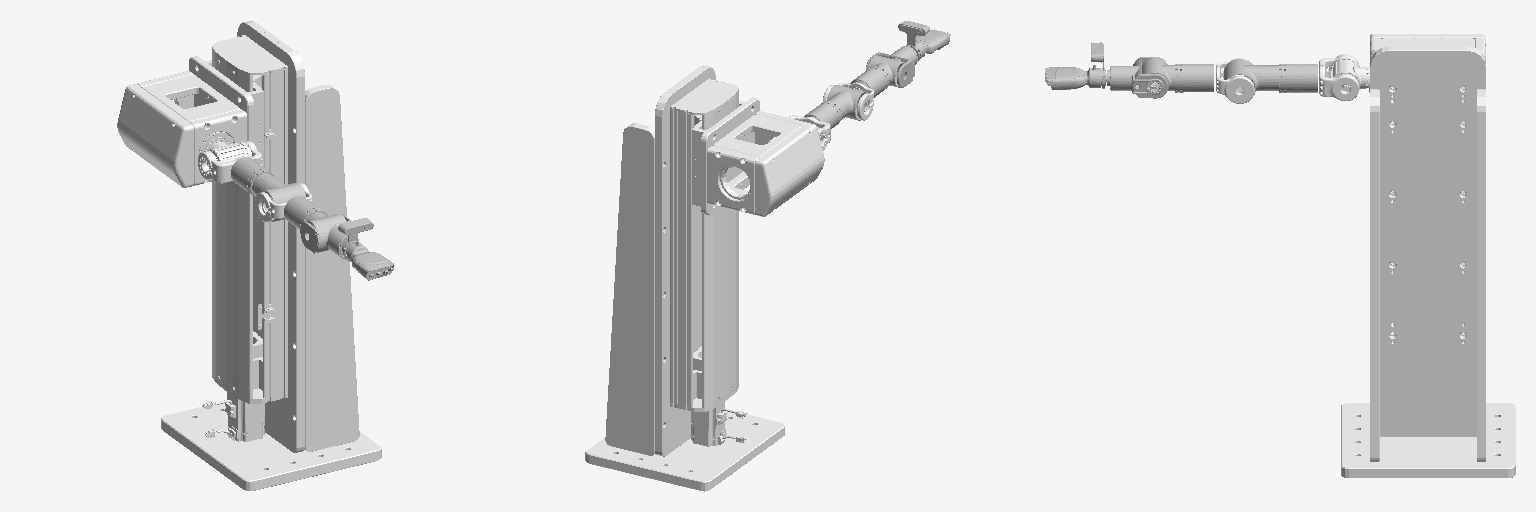
The robot description file, URDF, robot "RH_JEARM":
<?xml version="1.0" encoding="utf-8"?>
<!-- This URDF was automatically created by SolidWorks to URDF Exporter! Originally created by [author] ([email redacted]) 
     Commit Version: 1.6.0-4-g7f85cfe  Build Version: 1.6.7995.38578
     For more information, please see http://wiki.ros.org/sw_urdf_exporter -->
<robot
  name="RH_JEARM">
  <link
    name="base_link">
    <inertial>
      <origin
        xyz="0.1739 -0.00061208 0.49707"
        rpy="0 0 0" />
      <mass
        value="34.216" />
      <inertia
        ixx="3.8398"
        ixy="-7.0807E-05"
        ixz="0.029534"
        iyy="3.6685"
        iyz="0.0001037"
        izz="0.54165" />
    </inertial>
    <visual>
      <origin
        xyz="0 0 0"
        rpy="0 0 0" />
      <geometry>
        <mesh
          filename="base_link.STL" />
      </geometry>
      <material
        name="">
        <color
          rgba="1 1 1 1" />
      </material>
    </visual>
    <collision>
      <origin
        xyz="0 0 0"
        rpy="0 0 0" />
      <geometry>
        <mesh
          filename="base_link.STL" />
      </geometry>
    </collision>
  </link>
  <link
    name="Link1">
    <inertial>
      <origin
        xyz="2.7836118221769E-05 0.00322228656765244 -0.00617631002529817"
        rpy="0 0 0" />
      <mass
        value="0.159032417486965" />
      <inertia
        ixx="0.000247408483778664"
        ixy="1.71028711137996E-07"
        ixz="-5.12014662454739E-08"
        iyy="0.000182068327972374"
        iyz="2.59581548187686E-06"
        izz="0.000216756026876946" />
    </inertial>
    <visual>
      <origin
        xyz="0 0 0"
        rpy="0 0 0" />
      <geometry>
        <mesh
          filename="Link1.STL" />
      </geometry>
      <material
        name="">
        <color
          rgba="1 1 1 1" />
      </material>
    </visual>
    <collision>
      <origin
        xyz="0 0 0"
        rpy="0 0 0" />
      <geometry>
        <mesh
          filename="Link1.STL" />
      </geometry>
    </collision>
  </link>
  <joint
    name="joint1"
    type="revolute">
    <origin
      xyz="-0.0445 -0.2126 0.9008"
      rpy="1.5708 -1.5708 0" />
    <parent
      link="base_link" />
    <child
      link="Link1" />
    <axis
      xyz="0 0 1" />
    <limit
      lower="-31.4"
      upper="31.4"
      effort="100"
      velocity="31.4" />
  </joint>
  <link
    name="Link2">
    <inertial>
      <origin
        xyz="1.35382769328452E-07 -0.0256026505580679 0.00229314008429365"
        rpy="0 0 0" />
      <mass
        value="0.243793701990545" />
      <inertia
        ixx="0.000941741092859038"
        ixy="7.92653544247874E-10"
        ixz="2.00466559830877E-09"
        iyy="0.000779324493793612"
        iyz="7.47707501241595E-06"
        izz="0.000323680400868477" />
    </inertial>
    <visual>
      <origin
        xyz="0 0 0"
        rpy="0 0 0" />
      <geometry>
        <mesh
          filename="Link2.STL" />
      </geometry>
      <material
        name="">
        <color
          rgba="1 1 1 1" />
      </material>
    </visual>
    <collision>
      <origin
        xyz="0 0 0"
        rpy="0 0 0" />
      <geometry>
        <mesh
          filename="Link2.STL" />
      </geometry>
    </collision>
  </link>
  <joint
    name="joint2"
    type="revolute">
    <origin
      xyz="0 0 0"
      rpy="-1.5708 0 0" />
    <parent
      link="Link1" />
    <child
      link="Link2" />
    <axis
      xyz="0 0 1" />
    <limit
      lower="-31.4"
      upper="31.4"
      effort="100"
      velocity="31.4" />
  </joint>
  <link
    name="Link3">
    <inertial>
      <origin
        xyz="-0.00133919405917227 0.000273594582136827 -0.0780053635263388"
        rpy="0 0 0" />
      <mass
        value="0.249547645812497" />
      <inertia
        ixx="0.000499719866582774"
        ixy="-1.56499694946692E-07"
        ixz="2.00359608246648E-05"
        iyy="0.000526985959033142"
        iyz="-5.99932620143861E-07"
        izz="0.000281138997829166" />
    </inertial>
    <visual>
      <origin
        xyz="0 0 0"
        rpy="0 0 0" />
      <geometry>
        <mesh
          filename="Link3.STL" />
      </geometry>
      <material
        name="">
        <color
          rgba="0.819607843137255 0.819607843137255 0.819607843137255 1" />
      </material>
    </visual>
    <collision>
      <origin
        xyz="0 0 0"
        rpy="0 0 0" />
      <geometry>
        <mesh
          filename="Link3.STL" />
      </geometry>
    </collision>
  </link>
  <joint
    name="joint3"
    type="revolute">
    <origin
      xyz="0 -0.2719 0"
      rpy="1.5708 0 0" />
    <parent
      link="Link2" />
    <child
      link="Link3" />
    <axis
      xyz="0 0 1" />
    <limit
      lower="-31.4"
      upper="31.4"
      effort="100"
      velocity="31.4" />
  </joint>
  <link
    name="Link4">
    <inertial>
      <origin
        xyz="0.0025297602856591 -0.0159855148230696 -0.00375255478709757"
        rpy="0 0 0" />
      <mass
        value="0.140360397584585" />
      <inertia
        ixx="0.000478099297631363"
        ixy="1.26497163165359E-05"
        ixz="-1.16695285465246E-06"
        iyy="0.000405372160172561"
        iyz="8.4400509245478E-06"
        izz="0.000175373478467327" />
    </inertial>
    <visual>
      <origin
        xyz="0 0 0"
        rpy="0 0 0" />
      <geometry>
        <mesh
          filename="Link4.STL" />
      </geometry>
      <material
        name="">
        <color
          rgba="1 1 1 1" />
      </material>
    </visual>
    <collision>
      <origin
        xyz="0 0 0"
        rpy="0 0 0" />
      <geometry>
        <mesh
          filename="Link4.STL" />
      </geometry>
    </collision>
  </link>
  <joint
    name="joint4"
    type="revolute">
    <origin
      xyz="-0.008 0 0"
      rpy="-1.5708 0 0" />
    <parent
      link="Link3" />
    <child
      link="Link4" />
    <axis
      xyz="0 0 1" />
    <limit
      lower="-31.4"
      upper="31.4"
      effort="100"
      velocity="31.4" />
  </joint>
  <link
    name="Link5">
    <inertial>
      <origin
        xyz="1.27921006676246E-07 -0.00163210833384253 -0.0520239678804558"
        rpy="0 0 0" />
      <mass
        value="0.203459403127019" />
      <inertia
        ixx="0.000283282573696289"
        ixy="-9.13385447223933E-10"
        ixz="1.31064037482601E-09"
        iyy="0.000290785912383692"
        iyz="8.32280669783919E-06"
        izz="0.000231513900748135" />
    </inertial>
    <visual>
      <origin
        xyz="0 0 0"
        rpy="0 0 0" />
      <geometry>
        <mesh
          filename="Link5.STL" />
      </geometry>
      <material
        name="">
        <color
          rgba="0.819607843137255 0.819607843137255 0.819607843137255 1" />
      </material>
    </visual>
    <collision>
      <origin
        xyz="0 0 0"
        rpy="0 0 0" />
      <geometry>
        <mesh
          filename="Link5.STL" />
      </geometry>
    </collision>
  </link>
  <joint
    name="joint5"
    type="revolute">
    <origin
      xyz="0.008 -0.2189 0"
      rpy="1.5708 0 0" />
    <parent
      link="Link4" />
    <child
      link="Link5" />
    <axis
      xyz="0 0 1" />
    <limit
      lower="-31.4"
      upper="31.4"
      effort="100"
      velocity="31.4" />
  </joint>
  <link
    name="Link6">
    <inertial>
      <origin
        xyz="-4.96392518201105E-08 -0.048850970736557 0.00148906609677779"
        rpy="0 0 0" />
      <mass
        value="0.139511938718154" />
      <inertia
        ixx="0.000235435502751697"
        ixy="8.05181312606448E-10"
        ixz="-6.40982004176051E-10"
        iyy="0.000165450668750385"
        iyz="5.52340343814494E-05"
        izz="0.000188382083480458" />
    </inertial>
    <visual>
      <origin
        xyz="0 0 0"
        rpy="0 0 0" />
      <geometry>
        <mesh
          filename="Link6.STL" />
      </geometry>
      <material
        name="">
        <color
          rgba="0.819607843137255 0.819607843137255 0.819607843137255 1" />
      </material>
    </visual>
    <collision>
      <origin
        xyz="0 0 0"
        rpy="0 0 0" />
      <geometry>
        <mesh
          filename="Link6.STL" />
      </geometry>
    </collision>
  </link>
  <joint
    name="joint6"
    type="revolute">
    <origin
      xyz="0 0 0"
      rpy="-1.5708 0 0" />
    <parent
      link="Link5" />
    <child
      link="Link6" />
    <axis
      xyz="0 0 1" />
    <limit
      lower="-31.4"
      upper="31.4"
      effort="100"
      velocity="31.4" />
  </joint>
  <link
    name="Link7">
    <inertial>
      <origin
        xyz="0.0126521513346058 0.000603555300671965 0.0676118036314521"
        rpy="0 0 0" />
      <mass
        value="0.369145497401337" />
      <inertia
        ixx="0.000447551060461558"
        ixy="-1.40278019118313E-07"
        ixz="5.83536965989701E-06"
        iyy="0.000337384501784669"
        iyz="-7.68202299718562E-06"
        izz="0.000186777928166281" />
    </inertial>
    <visual>
      <origin
        xyz="0 0 0"
        rpy="0 0 0" />
      <geometry>
        <mesh
          filename="Link7.STL" />
      </geometry>
      <material
        name="">
        <color
          rgba="0.819607843137255 0.819607843137255 0.819607843137255 1" />
      </material>
    </visual>
    <collision>
      <origin
        xyz="0 0 0"
        rpy="0 0 0" />
      <geometry>
        <mesh
          filename="Link7.STL" />
      </geometry>
    </collision>
  </link>
  <joint
    name="joint7"
    type="revolute">
    <origin
      xyz="0 -0.124 0"
      rpy="1.5708 0 0" />
    <parent
      link="Link6" />
    <child
      link="Link7" />
    <axis
      xyz="0 0 1" />
    <limit
      lower="-31.4"
      upper="31.4"
      effort="100"
      velocity="31.4" />
  </joint>
</robot>

--- Facts derived from the render (not from the file) ---
3 views of the same robot in one strip: view 1: azimuth 30°, elevation 25°; view 2: azimuth 150°, elevation 25°; view 3: azimuth 270°, elevation 25° (orthographic).
Model RH_JEARM with 8 links and 7 joints (7 revolute), rooted at base_link, posed every joint at zero.
Visible links, largest first — view 1: base_link, Link3, Link7, Link5, Link6, Link2, Link4, Link1; view 2: base_link, Link3, Link5, Link7, Link6, Link4; view 3: base_link, Link3, Link5, Link7, Link6, Link2, Link4, Link1.
Boxes of the visible links, x1,y1,x2,y2 form: base_link: (117,20,381,490); Link3: (231,157,305,221); Link7: (338,218,393,280); Link5: (284,196,346,238); Link6: (300,214,358,259); Link2: (198,141,261,183); Link4: (255,183,311,221); Link1: (209,141,251,162); base_link: (585,65,824,491); Link3: (804,85,866,128); Link5: (850,55,904,97); Link7: (898,21,950,60); Link6: (866,46,917,87); Link4: (823,82,873,120); base_link: (1341,34,1515,477); Link3: (1224,59,1317,96); Link5: (1142,58,1213,92); Link7: (1045,42,1109,89); Link6: (1110,57,1168,98); Link2: (1319,54,1359,100); Link4: (1216,58,1254,103); Link1: (1331,57,1368,90).
Size in the robot's own frame: 0.5656 by 1.21 by 1.13 metres.
Meshes: 8 distinct files referenced, 8 mesh visuals loaded (8 binary STL).